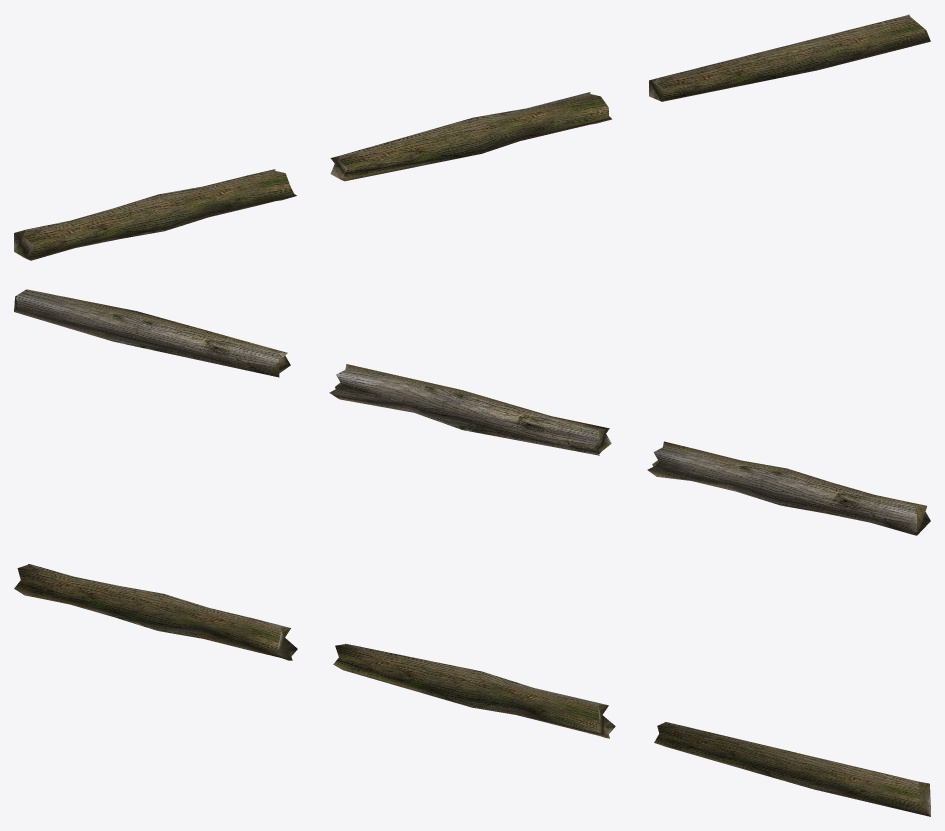
File: SM_Tree_And_Bushes.fbx_SM_Tree_17_Lod.fbx
3 views of the same model, one above another, from view 1: azimuth 30°, elevation 25°; view 2: azimuth 150°, elevation 25°; view 3: azimuth 330°, elevation 25° (orthographic).
Parts seen in each view (by area): view 1: SM_Tree_17_Lod_High, SM_Tree_17_Lod_Mid, SM_Tree_17_Lod_Low; view 2: SM_Tree_17_Lod_Mid, SM_Tree_17_Lod_High, SM_Tree_17_Lod_Low; view 3: SM_Tree_17_Lod_High, SM_Tree_17_Lod_Mid, SM_Tree_17_Lod_Low.
Part boxes in pixels (bbox=[...]): SM_Tree_17_Lod_High: bbox=[14, 169, 296, 260]; SM_Tree_17_Lod_Mid: bbox=[330, 92, 611, 181]; SM_Tree_17_Lod_Low: bbox=[649, 14, 930, 101]; SM_Tree_17_Lod_Mid: bbox=[329, 364, 611, 455]; SM_Tree_17_Lod_High: bbox=[647, 441, 930, 535]; SM_Tree_17_Lod_Low: bbox=[14, 289, 290, 377]; SM_Tree_17_Lod_High: bbox=[14, 564, 297, 660]; SM_Tree_17_Lod_Mid: bbox=[333, 643, 615, 738]; SM_Tree_17_Lod_Low: bbox=[654, 722, 930, 816].
Size of the model in its own units: 28061 by 1062 by 1062.
Materials: 1 (1 with a texture image).
